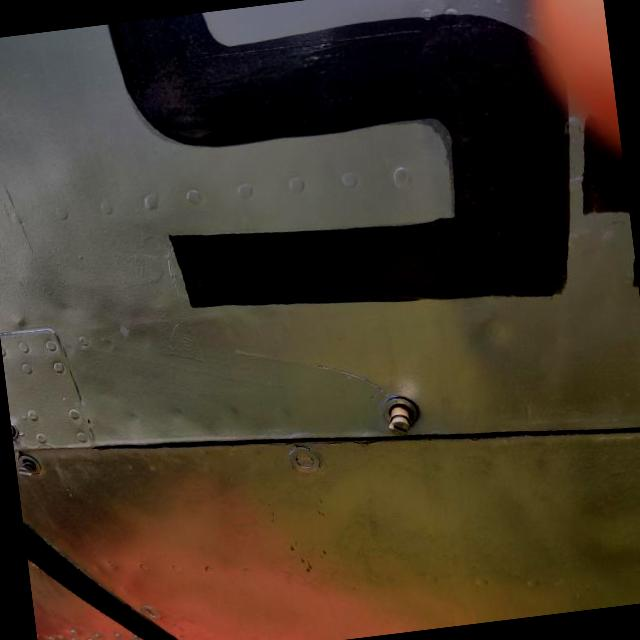scratch: (210, 316, 400, 422)
